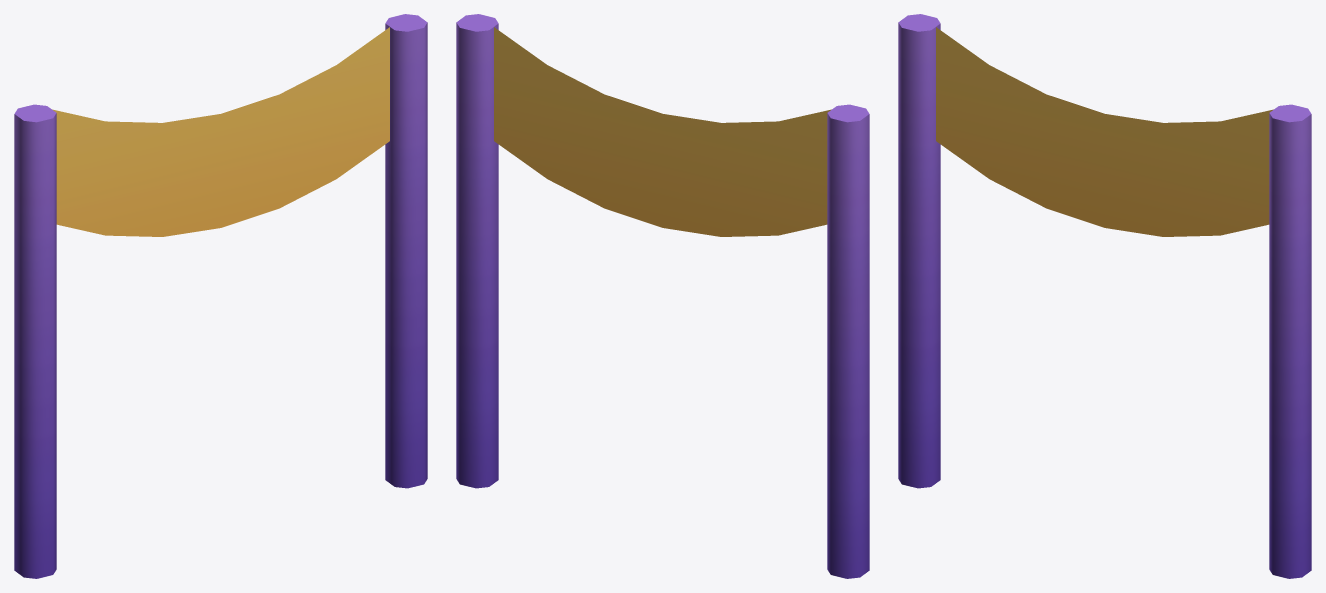
Rendered from kenney-marble-banner-hanging-high.glb.
3 renders of one model, left to right at view 1: azimuth 30°, elevation 25°; view 2: azimuth 150°, elevation 25°; view 3: azimuth 330°, elevation 25°, orthographic.
Parts seen in each view (by area): view 1: banner-hanging-high; view 2: banner-hanging-high; view 3: banner-hanging-high.
Boxes of the visible parts, <box> form: banner-hanging-high: <box>14,14,427,578</box>; banner-hanging-high: <box>456,14,869,578</box>; banner-hanging-high: <box>898,14,1311,578</box>.
Bounding box in the file's own units: 0.925 × 1 × 0.075.
Materials: 1 (1 with a texture image).
